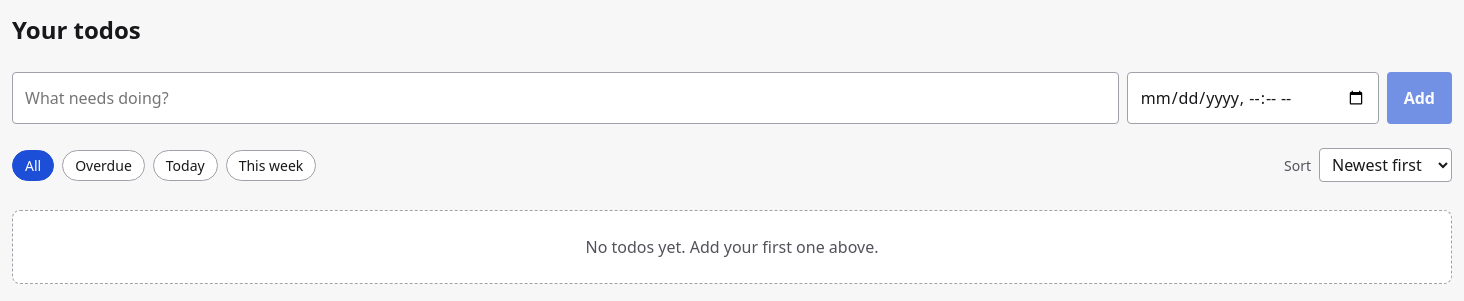
Test: <TodoPage /> › adds a todo via the composer (POST /api/todos) and shows it
The image size is (1464, 301).
Check: the text "No todos yet. Add your first one above." is shown, box [12,210,1452,284]
Type "fresh todo" into the field with placeholder "What needs doing?" at (565, 98), box [12,72,1119,124]
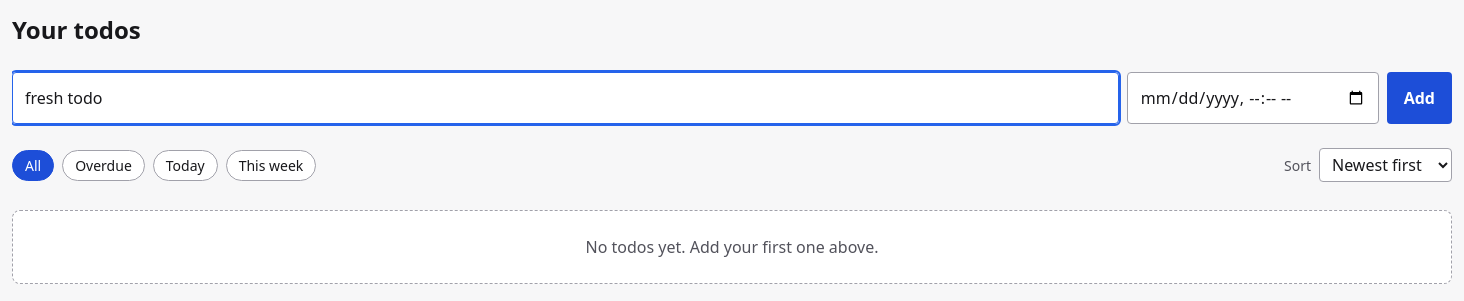
Click the button "Add" at (1419, 98), box [1387,72,1452,124]
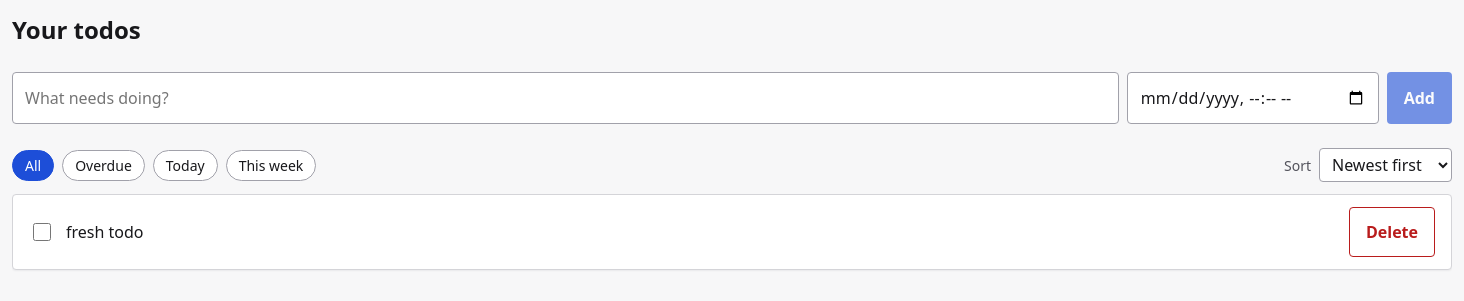
Check: the text "fresh todo" is shown, box [66,221,144,243]
